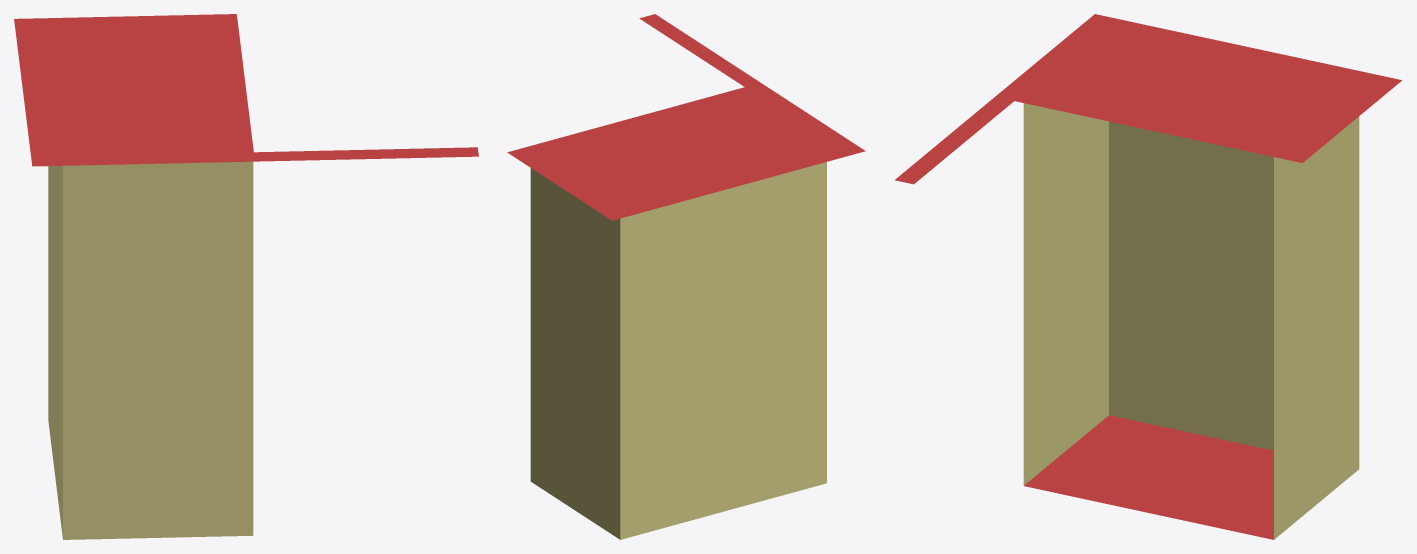
3 views of the same model, side by side, from view 1: azimuth 30°, elevation 25°; view 2: azimuth 150°, elevation 25°; view 3: azimuth 270°, elevation 25° (orthographic). The views are drawn at different scales.
Bounding box in the file's own units: 6.28 × 7.91 × 6.58.
